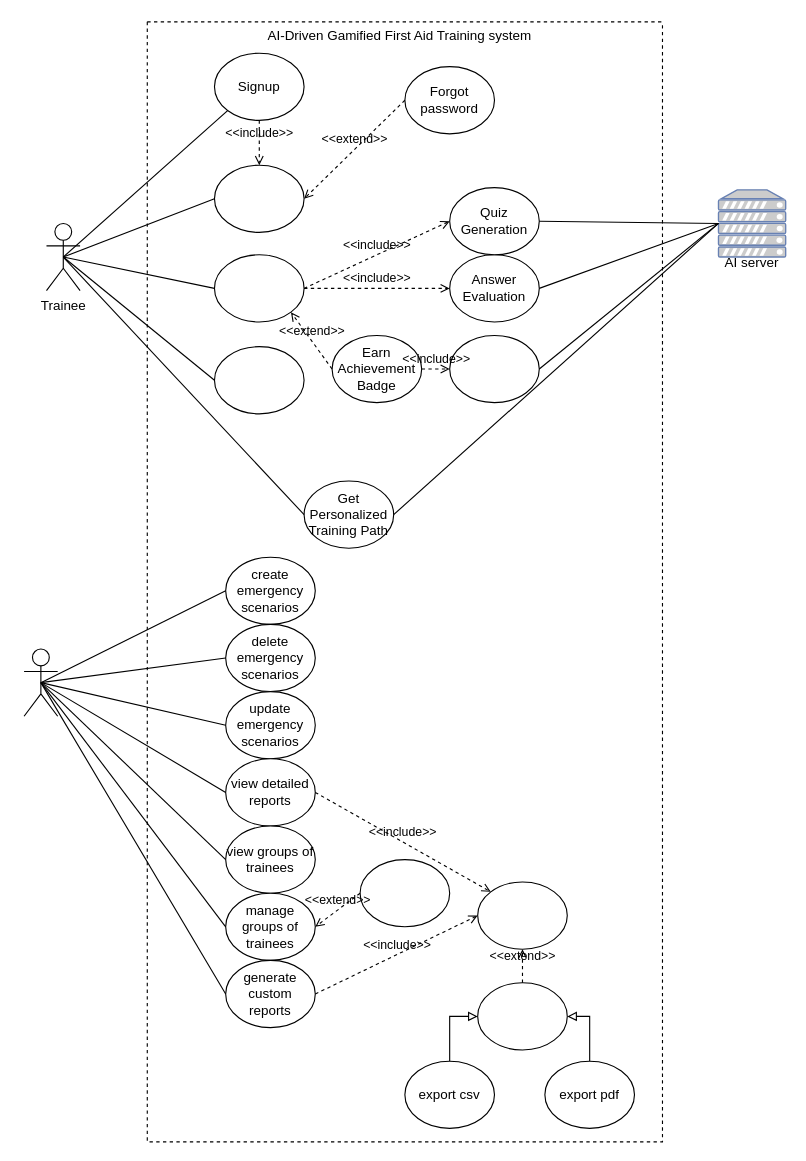
This 806x1161 diagram has some shape labels left out. The box of each missing label's shape, as (x1, y1, x2, y2) in pixels:
Evaluate performance: (449, 334, 539, 403)
export report: (477, 982, 567, 1050)
Login: (213, 164, 304, 232)
send group messages: (359, 858, 450, 927)
Take Emergency Simulation Quiz: (213, 254, 304, 322)
Trainer: (23, 648, 58, 716)
View Earned Badges: (213, 346, 304, 414)
view report: (477, 881, 567, 949)
